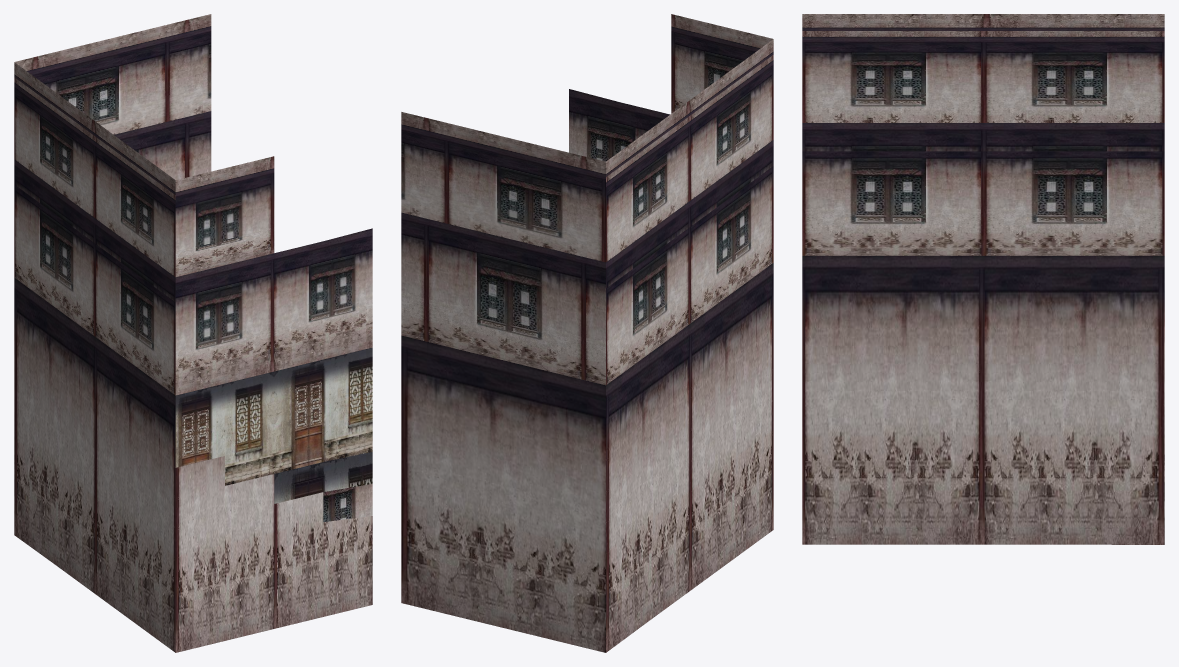
The picture shows the model from 3 angles, left to right: view 1: azimuth 30°, elevation 25°; view 2: azimuth 150°, elevation 25°; view 3: azimuth 270°, elevation 25°; orthographic projection. The views are drawn at different scales.
Visible parts, largest first — view 1: Shape43; view 2: Shape43; view 3: Shape43.
Boxes of the visible parts, x1=… form: Shape43: x1=14, y1=14, x2=372, y2=652; Shape43: x1=401, y1=14, x2=773, y2=652; Shape43: x1=802, y1=14, x2=1164, y2=544.
Size of the model in its own units: 218 by 500 by 309.
